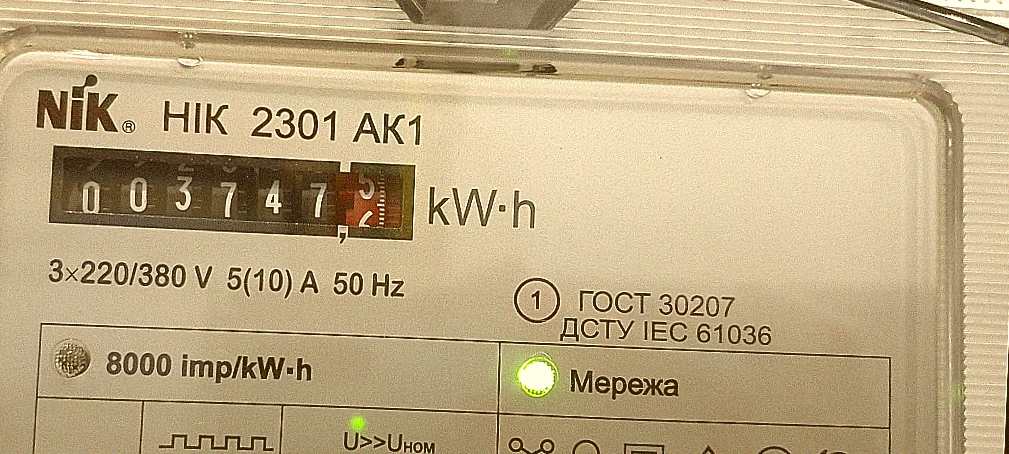0: (126, 173, 148, 212), (78, 178, 101, 214)
3: (172, 173, 192, 211)
4: (261, 175, 283, 216)
5: (355, 171, 376, 200)
6: (354, 206, 374, 228)
7: (305, 178, 328, 219), (216, 178, 237, 218)
screen: (38, 133, 430, 255)
